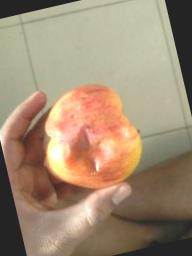Apple Overripe: (26, 74, 156, 204)
